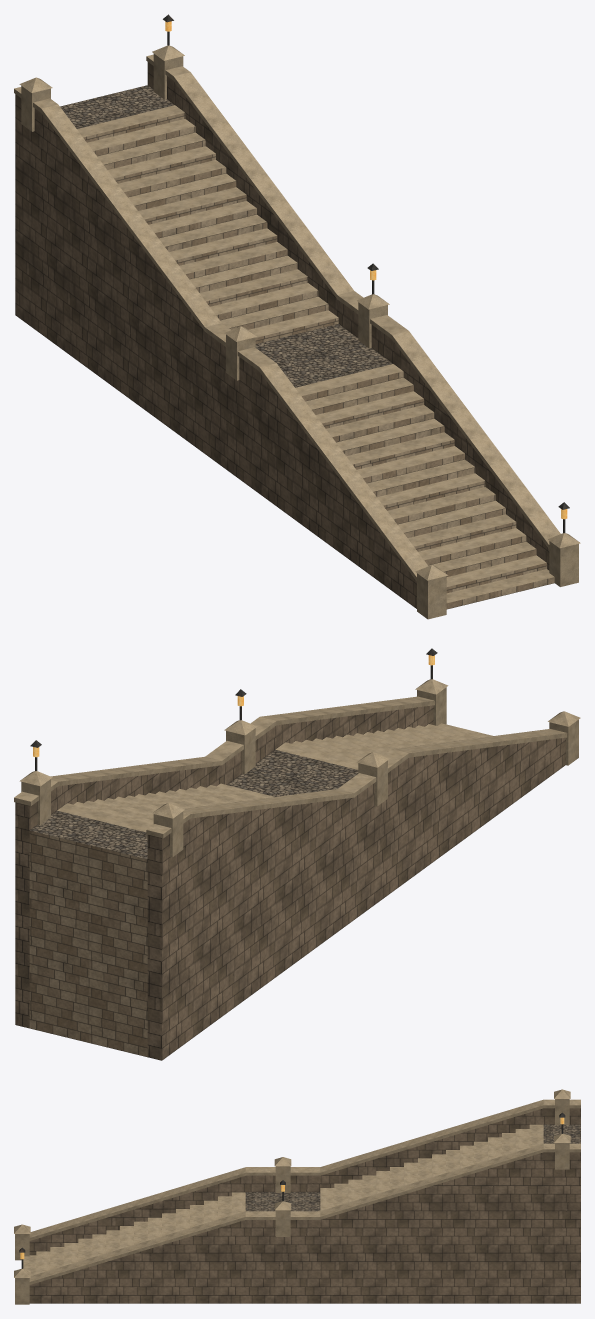
File: castle_stairs.gltf
3 views of the same model, one above another, from view 1: azimuth 30°, elevation 25°; view 2: azimuth 150°, elevation 25°; view 3: azimuth 270°, elevation 25° (orthographic). The views are drawn at different scales.
Parts seen in each view (by area): view 1: castle_stairs_mesh; view 2: castle_stairs_mesh; view 3: castle_stairs_mesh.
Boxes of the visible parts, <box> form: castle_stairs_mesh: <box>14,14,580,619</box>; castle_stairs_mesh: <box>14,648,580,1060</box>; castle_stairs_mesh: <box>14,1089,580,1304</box>.
Size of what is drawn, in the model's own units: 6.5 by 11.19 by 30.45.
Materials: 6 (6 with a texture image).
